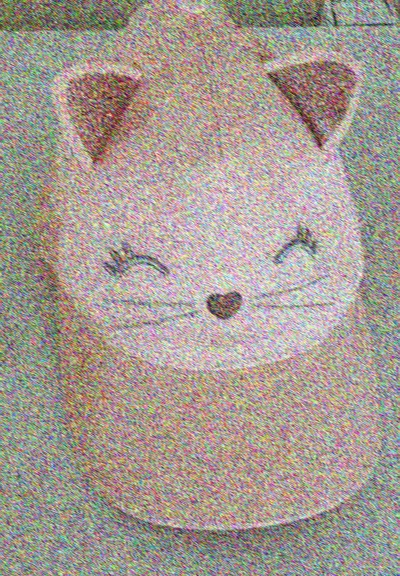Hat: (17, 3, 383, 538)
